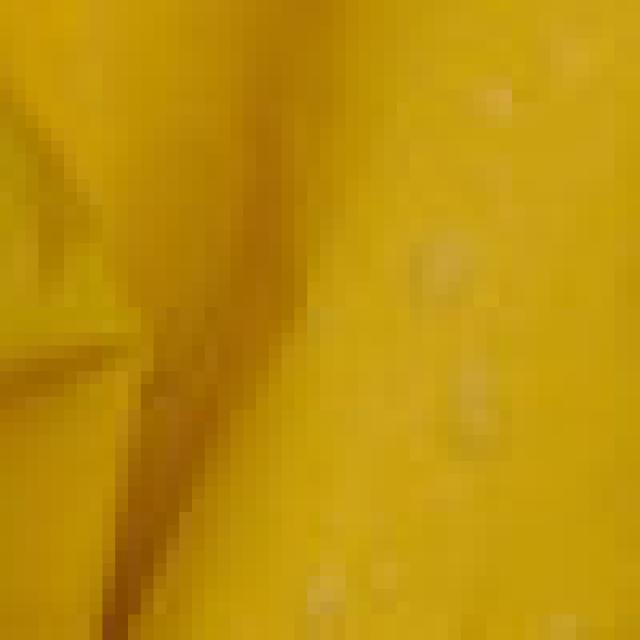fire: (3, 14, 604, 623)
